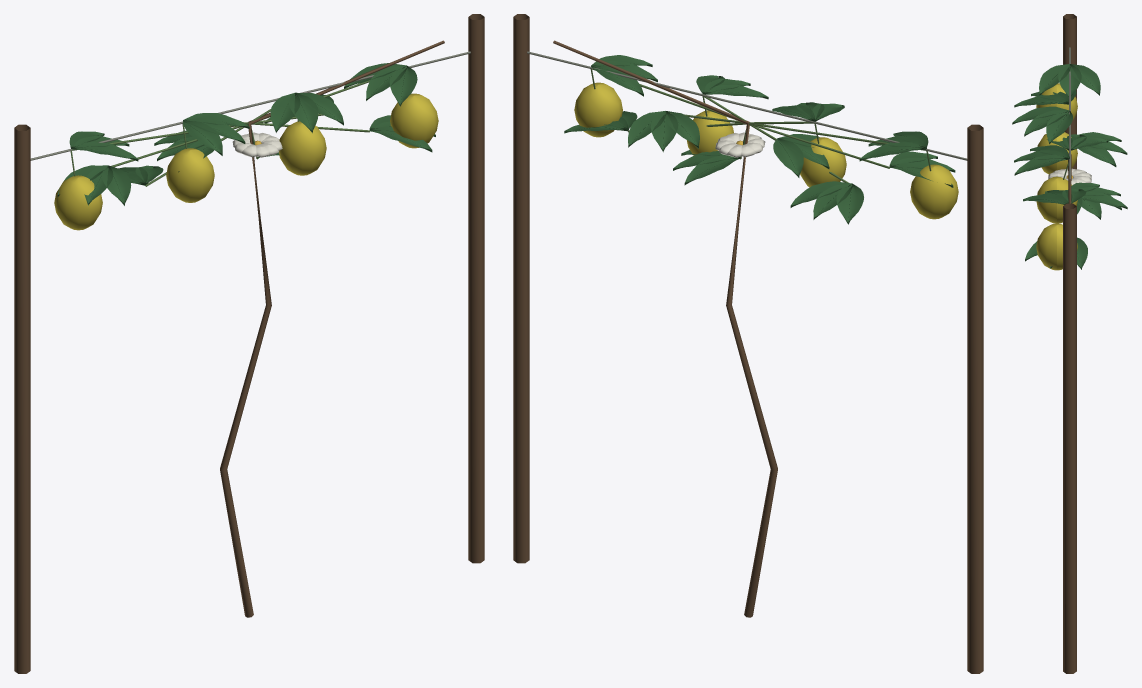
The model's file is maracuya.glb.
3 views of the same model, side by side, from view 1: azimuth 30°, elevation 25°; view 2: azimuth 150°, elevation 25°; view 3: azimuth 270°, elevation 25° (orthographic). The views are drawn at different scales.
Visible parts, largest first — view 1: maracuya; view 2: maracuya; view 3: maracuya.
Boxes of the visible parts, box(x1,y1,x2,y2) form: maracuya: box(14, 14, 484, 673); maracuya: box(513, 14, 983, 673); maracuya: box(1012, 14, 1127, 673).
Size of the model in its own units: 1.44 by 1.6 by 0.3586.
